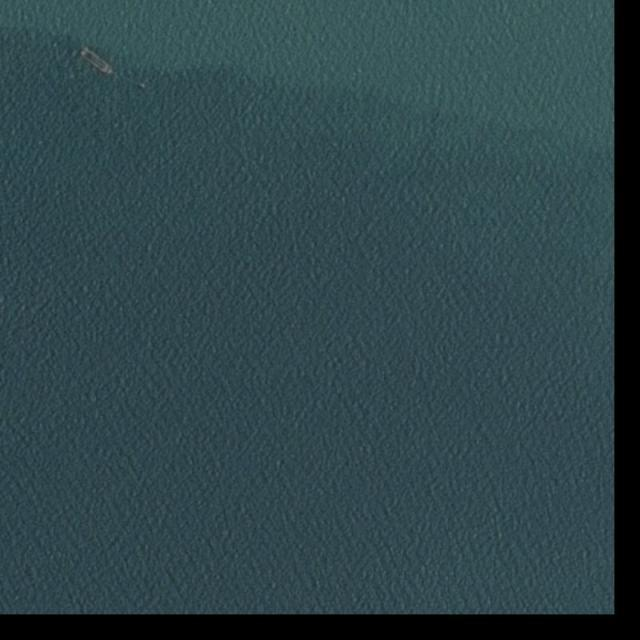ship: (76, 44, 116, 79), (138, 82, 146, 89)
